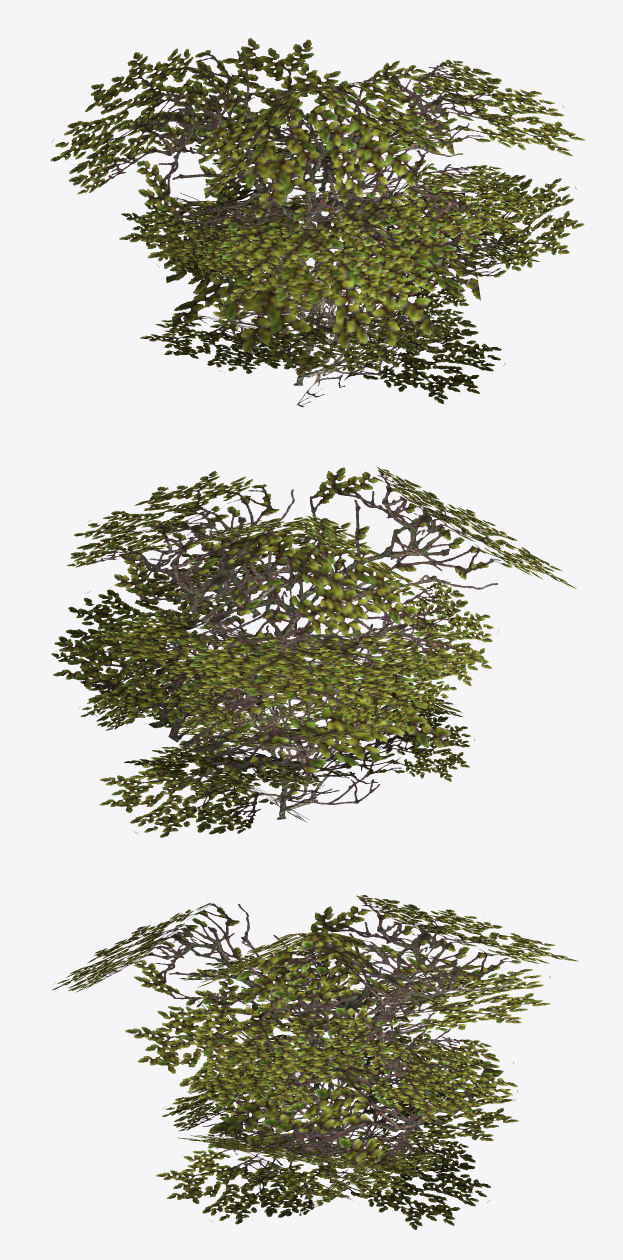
Rendered from bush-2.glb.
3 views of the same model, one above another, from view 1: azimuth 30°, elevation 25°; view 2: azimuth 150°, elevation 25°; view 3: azimuth 270°, elevation 25° (orthographic). The views are drawn at different scales.
Visible parts, largest first — view 1: bush-2; view 2: bush-2; view 3: bush-2.
Boxes of the visible parts, bbox=[...] form: bush-2: bbox=[50, 38, 585, 407]; bush-2: bbox=[51, 467, 576, 837]; bush-2: bbox=[51, 895, 578, 1229].
Size of the model in its own units: 5.25 by 2.79 by 5.68.
1 material, 1 textured.
